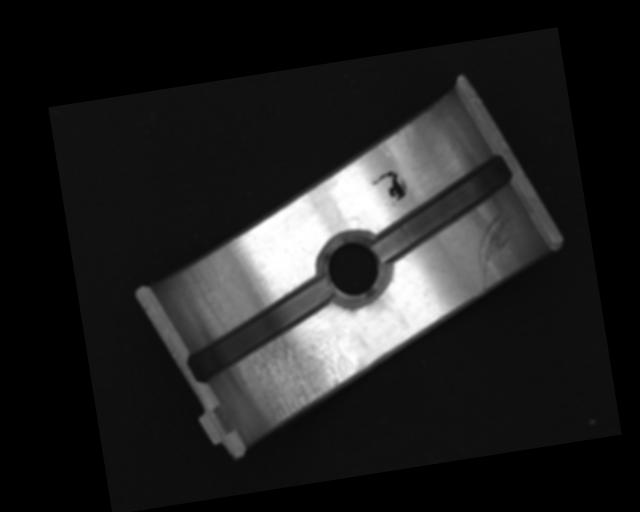blot: (369, 167, 408, 205)
gap: (173, 276, 343, 386), (359, 152, 524, 264)
hole: (315, 228, 392, 307)
nick: (470, 207, 522, 292)
scratch: (250, 326, 368, 427)
